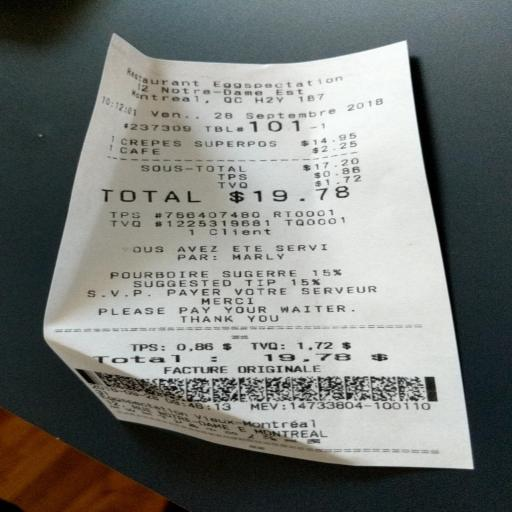paper: (26, 17, 508, 488)
